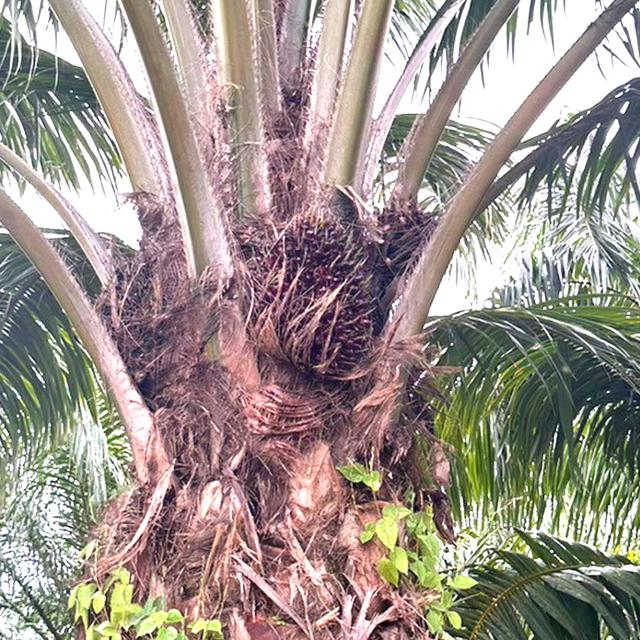ripe: (247, 204, 381, 358)
